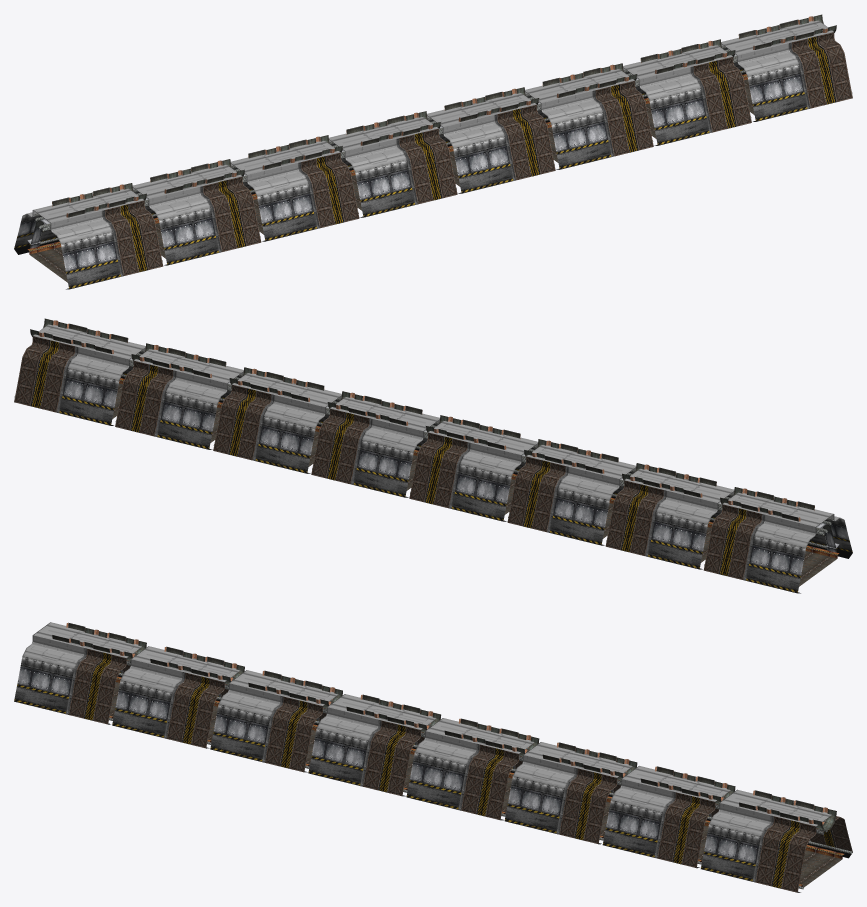
File: testiram_cijelu_traku_traka5.obj
The picture shows the model from 3 angles, top to bottom: view 1: azimuth 30°, elevation 25°; view 2: azimuth 150°, elevation 25°; view 3: azimuth 330°, elevation 25°; orthographic projection.
Size of the model in its own units: 23.03 by 1.68 by 2.8.
